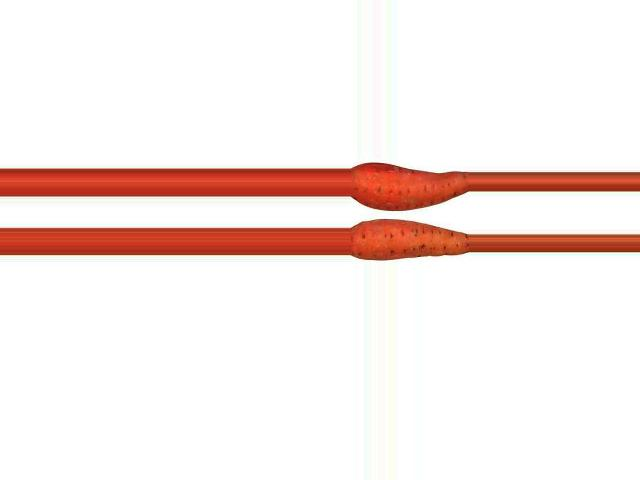sweet_potato: (350, 218, 465, 259)
